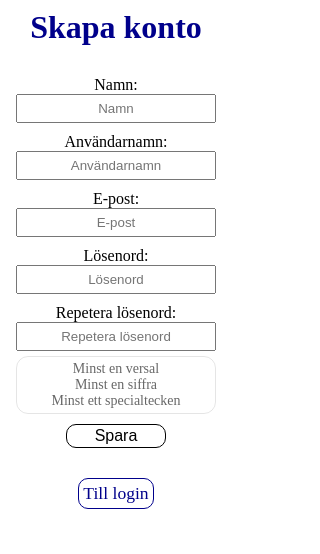
Test: SignUp › Should display error message if passwords don't match
Type "abc123" into the password field labelled "Lösenord:" at (116, 280), box x1=16 y1=265 x2=216 y2=294
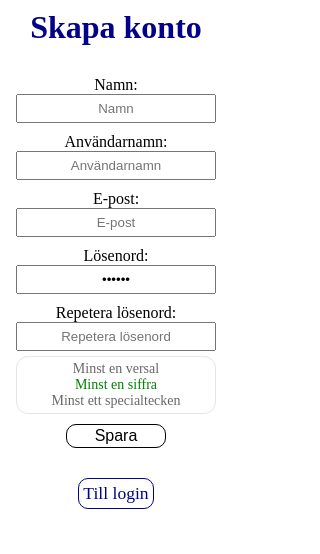
Type "def456" into the password field labelled "Repetera lösenord:" at (116, 336), box x1=16 y1=322 x2=216 y2=351
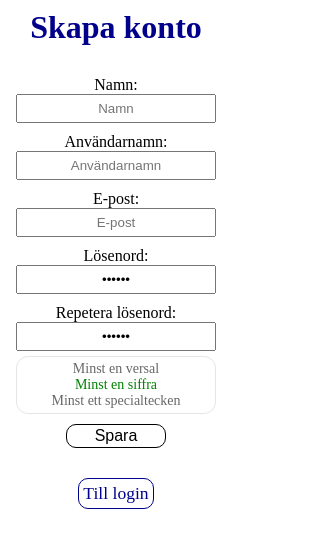
Click the button "Spara" at (116, 436), box x1=66 y1=424 x2=166 y2=448
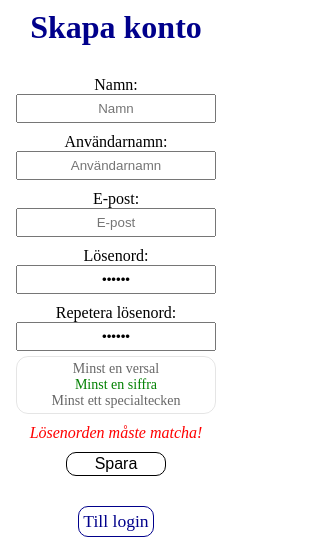
Check: the text "Lösenorden måste matcha!" is shown, box x1=16 y1=424 x2=216 y2=442
